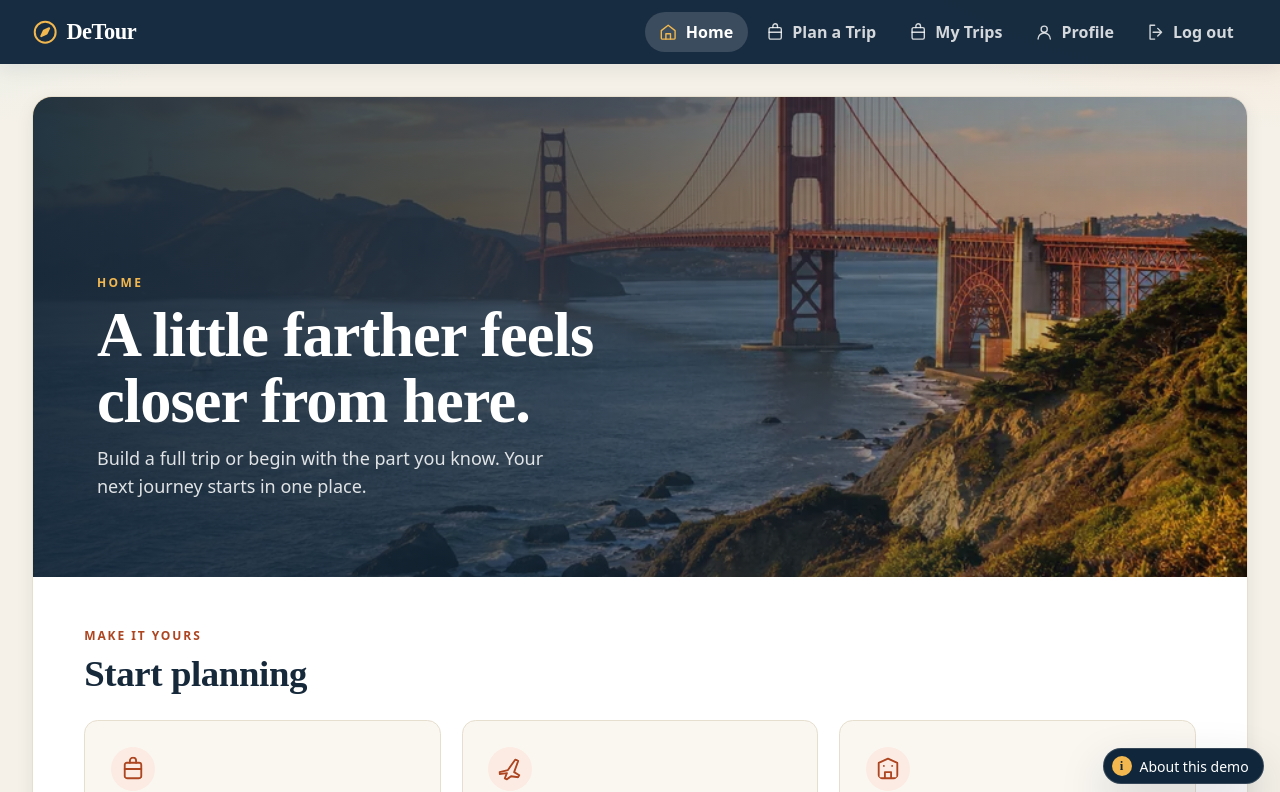
Scenario: App identity experience › renames the same Trip while preserving its Saved option and reports a conflict
This screenshot has width=1280, height=792.
Expected: the button "Profile" is shown, x1=1021 y1=12 x2=1128 y2=52
Click the button "My Trips" at (956, 32), box x1=894 y1=12 x2=1017 y2=52
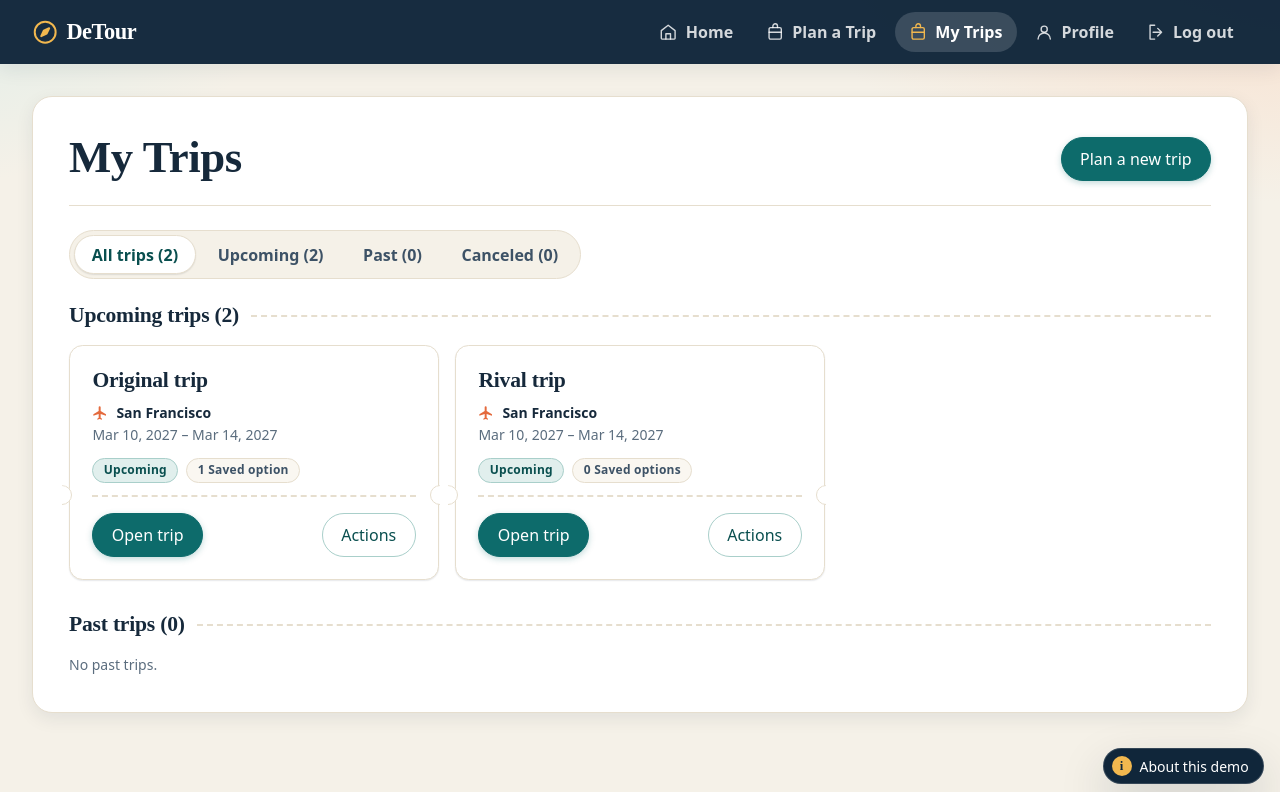
Now the text "1 Saved option" is shown, box x1=186 y1=458 x2=300 y2=482
Now the text "Mar 10, 2027 – Mar 14, 2027" below "Original trip" is shown, box x1=92 y1=425 x2=278 y2=444
Click the button with aria-label "Actions for Original trip" at (369, 534), box x1=322 y1=512 x2=416 y2=556
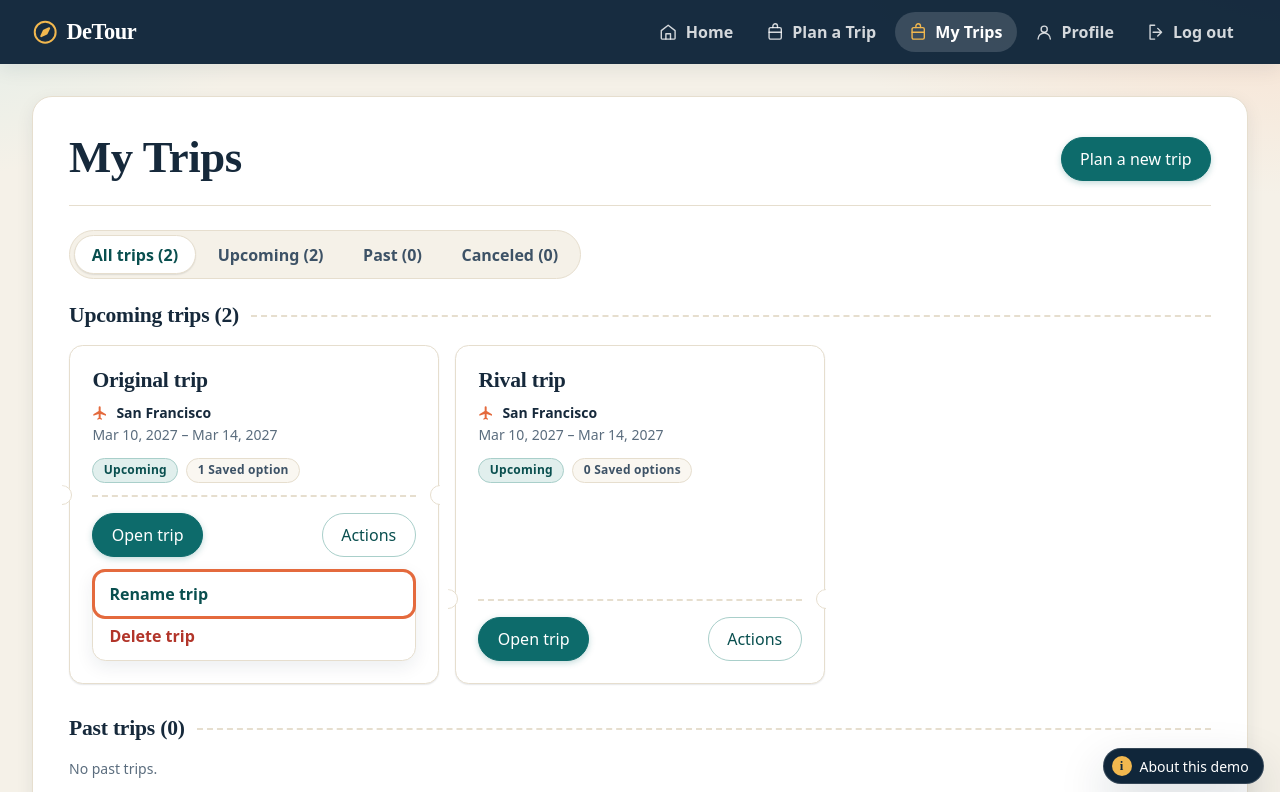
Click the menu item "Rename trip" at (159, 594), box x1=97 y1=574 x2=411 y2=614
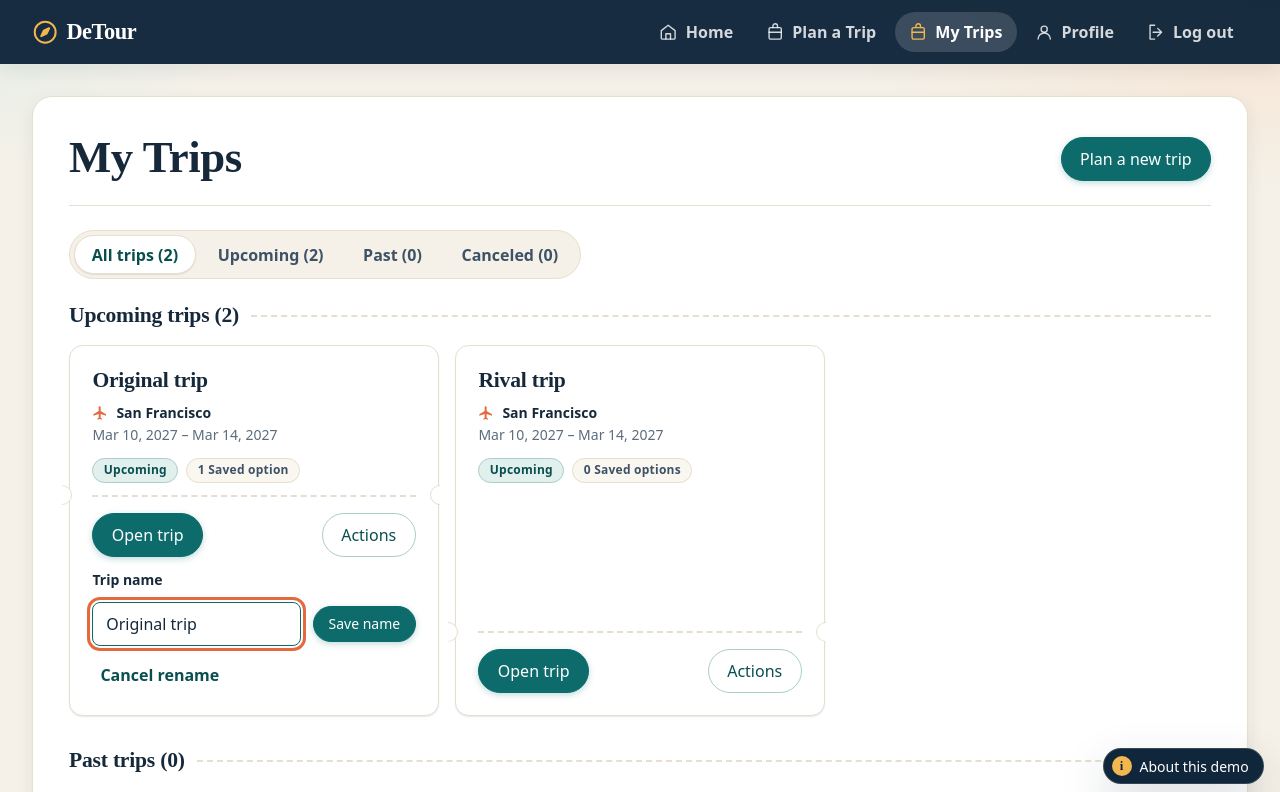
Replace the text in the field labelled "Trip name" with "Spring break" at (197, 624), box x1=92 y1=602 x2=301 y2=646
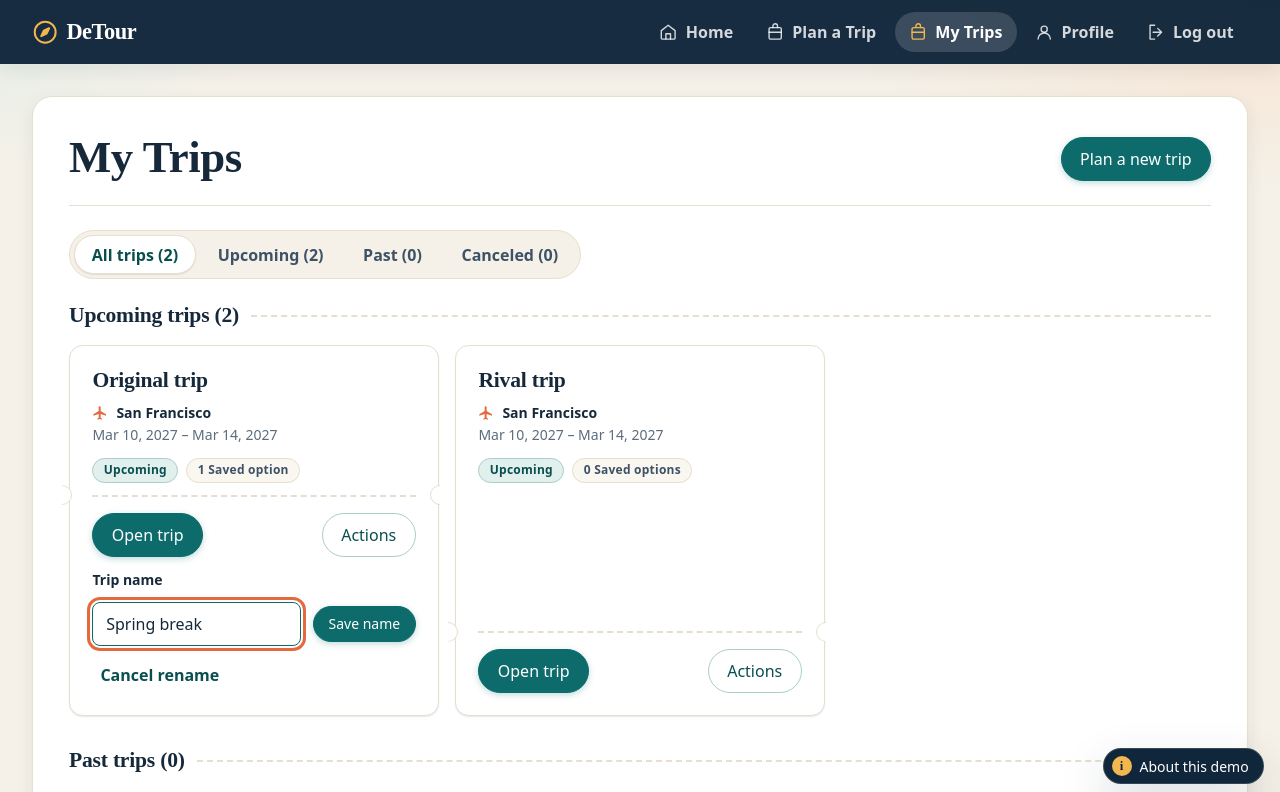
Click the button "Save name" at (364, 624), box x1=313 y1=606 x2=416 y2=642
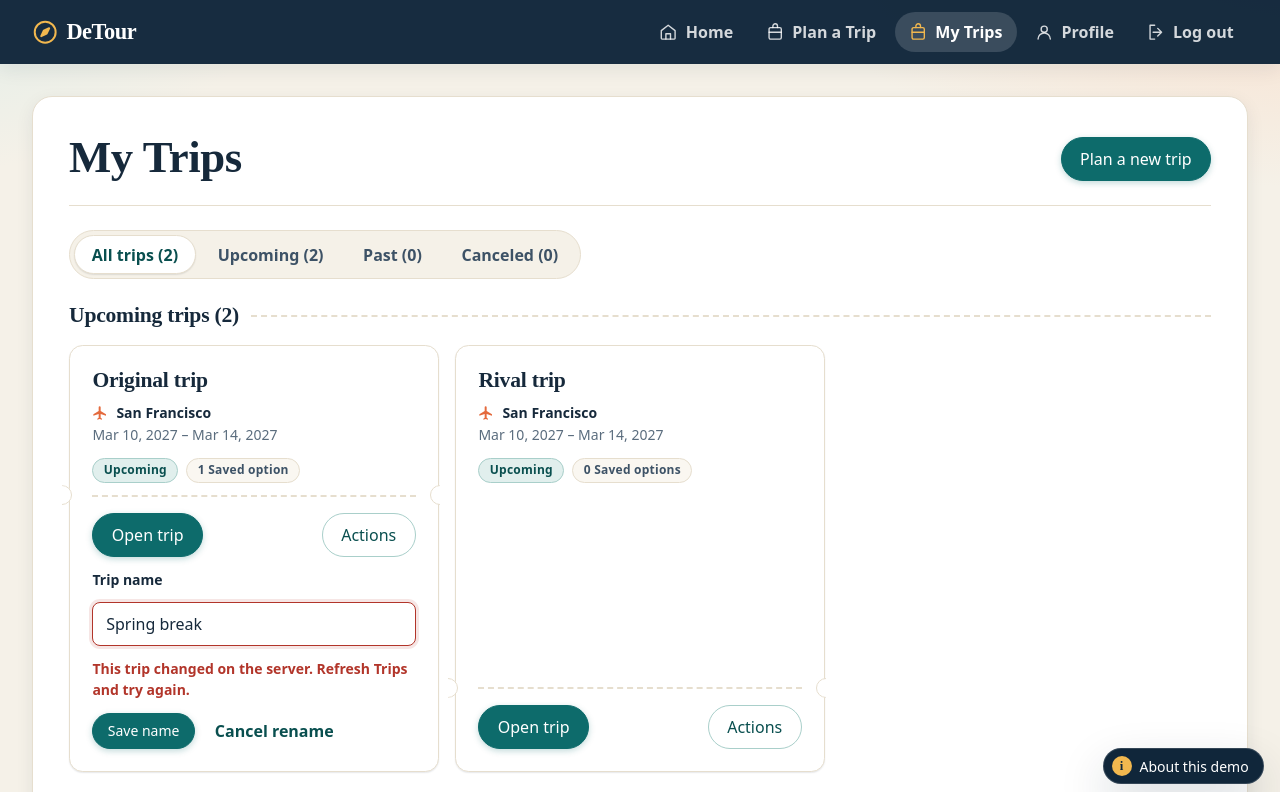
Now the heading "Original trip" is shown, box x1=92 y1=368 x2=208 y2=392
Now the text "This trip changed on the server. Refresh Trips and try again." is shown, box x1=92 y1=658 x2=416 y2=701
Click the button "Save name" at (144, 731), box x1=92 y1=713 x2=195 y2=749
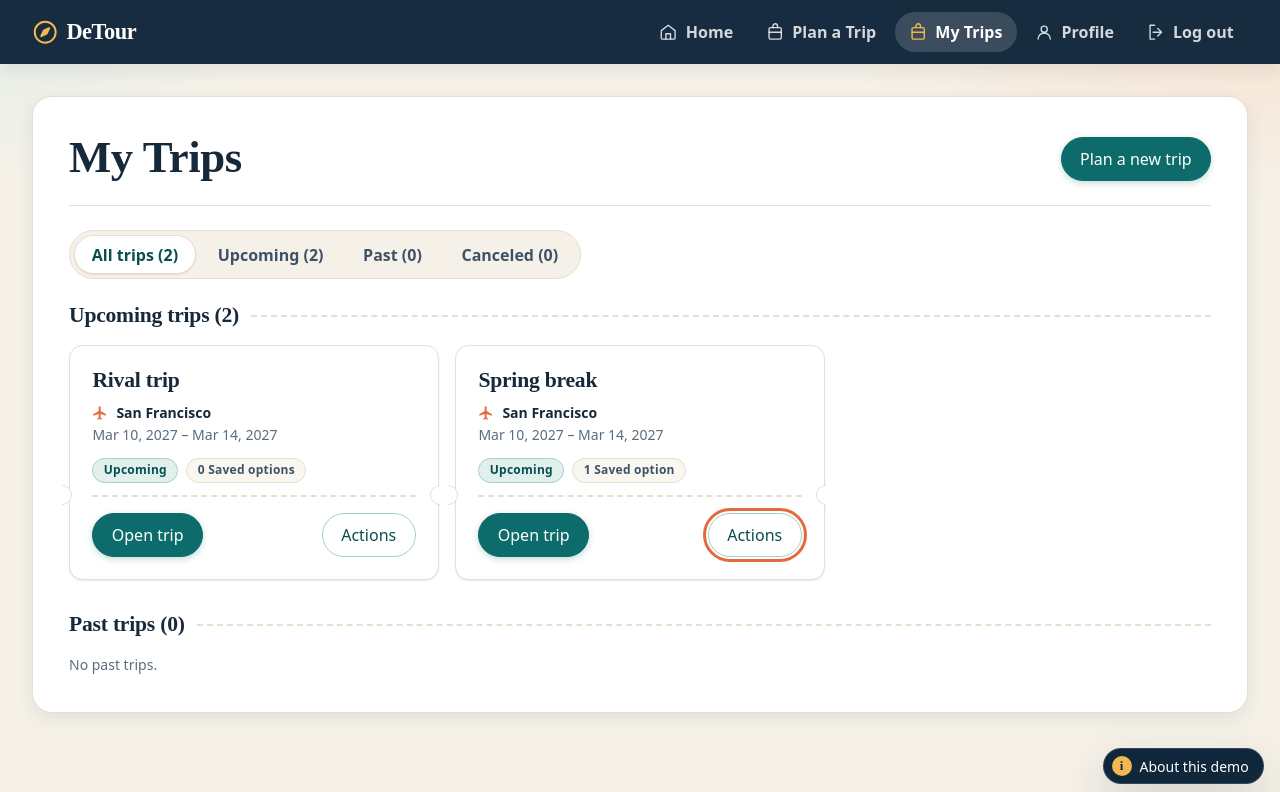
Now the text "1 Saved option" is shown, box x1=572 y1=458 x2=686 y2=482
Now the heading "Spring break" is shown, box x1=478 y1=368 x2=597 y2=392
